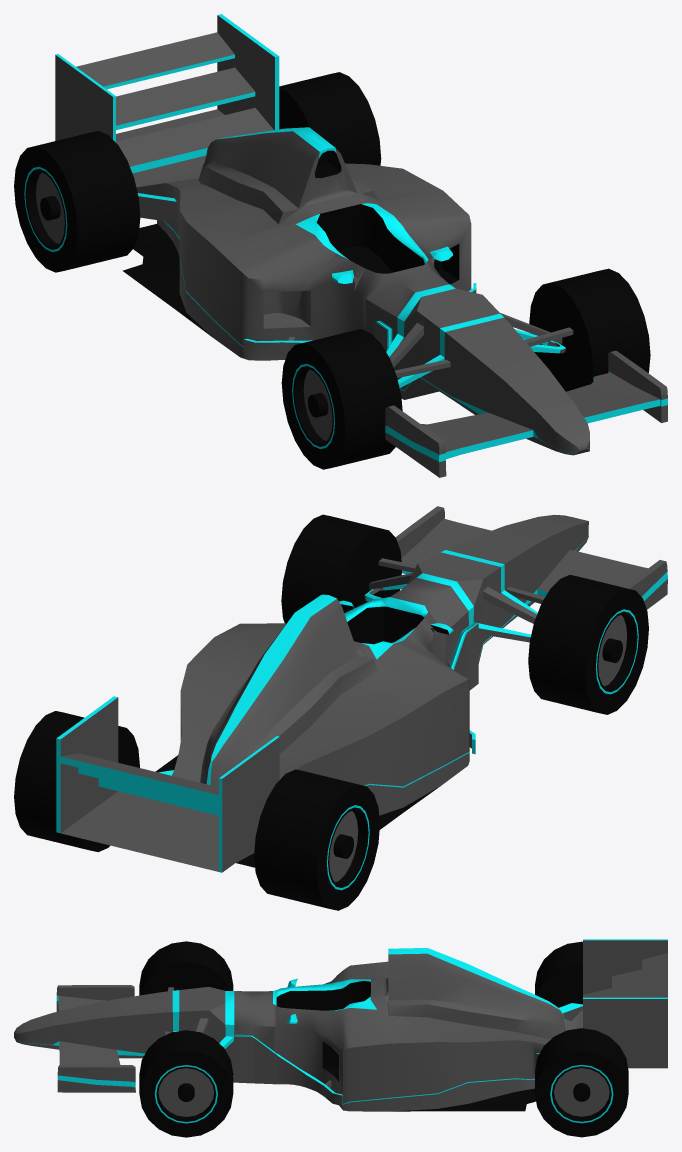
Rendered from formula_1.glb.
3 renders of one model, top to bottom at view 1: azimuth 30°, elevation 25°; view 2: azimuth 150°, elevation 25°; view 3: azimuth 270°, elevation 25°, orthographic. The views are drawn at different scales.
Visible parts, largest first — view 1: Chassis, Wheel3, Wheel2, Wheel1, Wheel4; view 2: Chassis, Wheel3, Wheel2, Wheel1, Wheel4; view 3: Chassis, Wheel4, Wheel1, Wheel2, Wheel3.
Part boxes in pixels (x1,y1,x2,y2): Chassis: (55,14,667,477); Wheel3: (14,131,140,272); Wheel2: (281,329,402,469); Wheel1: (529,268,650,391); Wheel4: (279,72,381,165); Chassis: (56,506,667,872); Wheel3: (254,769,379,910); Wheel2: (528,575,648,714); Wheel1: (281,514,401,623); Wheel4: (14,711,139,852); Chassis: (14,939,667,1111); Wheel4: (535,1028,628,1137); Wheel1: (139,1030,233,1137); Wheel2: (139,941,233,995); Wheel3: (535,941,582,1007).
Size of the model in its own units: 6.64 by 3.73 by 16.75.
